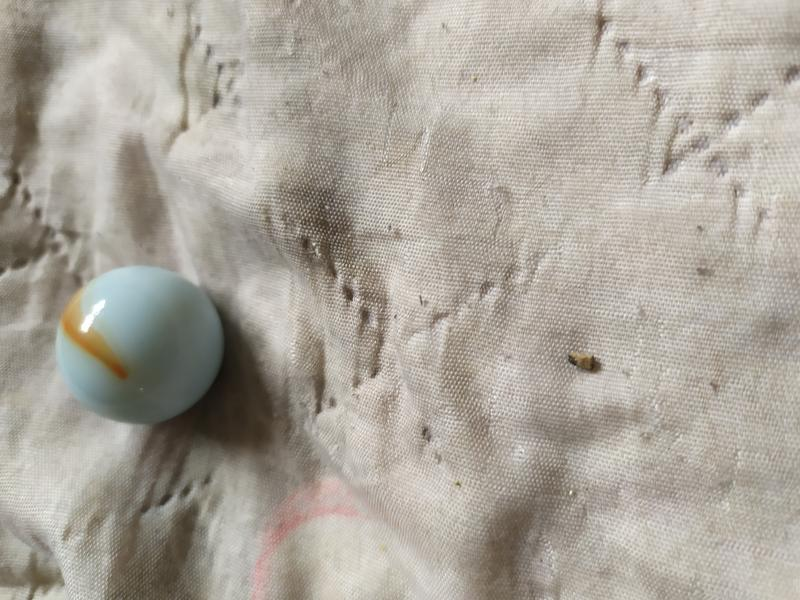Warning: (52, 260, 230, 428)
